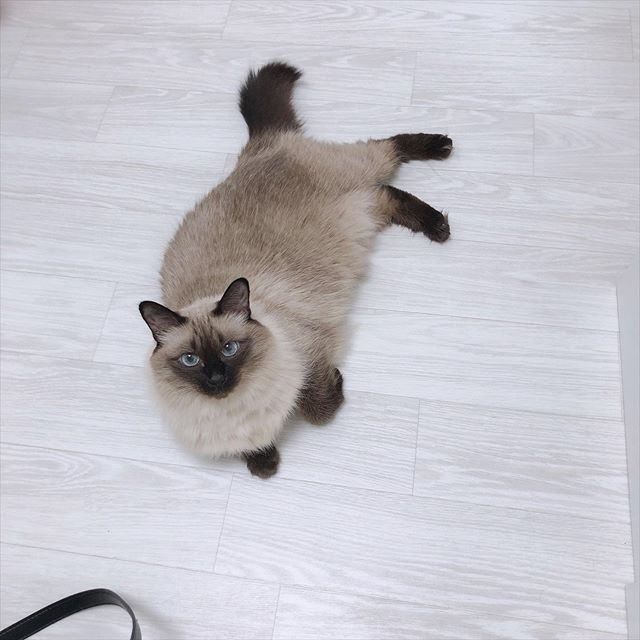cat: (138, 277, 269, 407)
